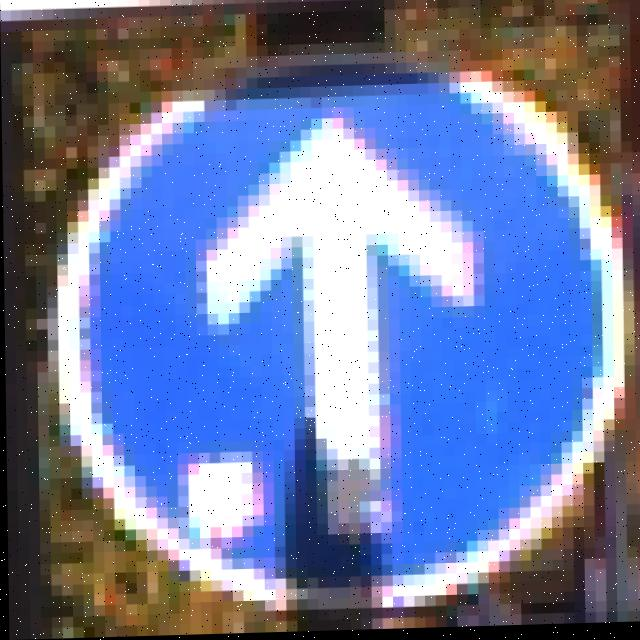compulsory_ahead: (77, 48, 640, 585)
